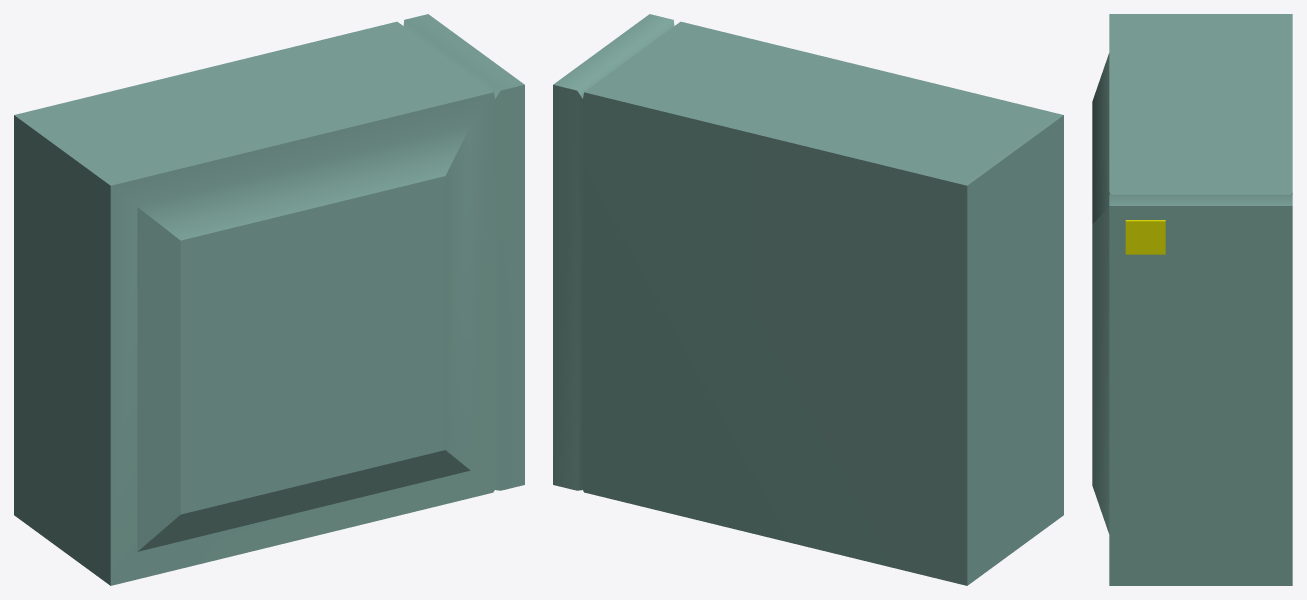
The model's file is ATLAS_PR_CPU.fbx.
3 views of the same model, side by side, from view 1: azimuth 30°, elevation 25°; view 2: azimuth 150°, elevation 25°; view 3: azimuth 270°, elevation 25° (orthographic). The views are drawn at different scales.
Visible parts, largest first — view 1: PR_CPU; view 2: PR_CPU; view 3: PR_CPU.
Part boxes in pixels (x1,y1,x2,y2): PR_CPU: (14, 14, 524, 585); PR_CPU: (553, 14, 1063, 585); PR_CPU: (1092, 14, 1292, 585).
Size of the model in its own units: 54.77 by 50.26 by 24.05.
